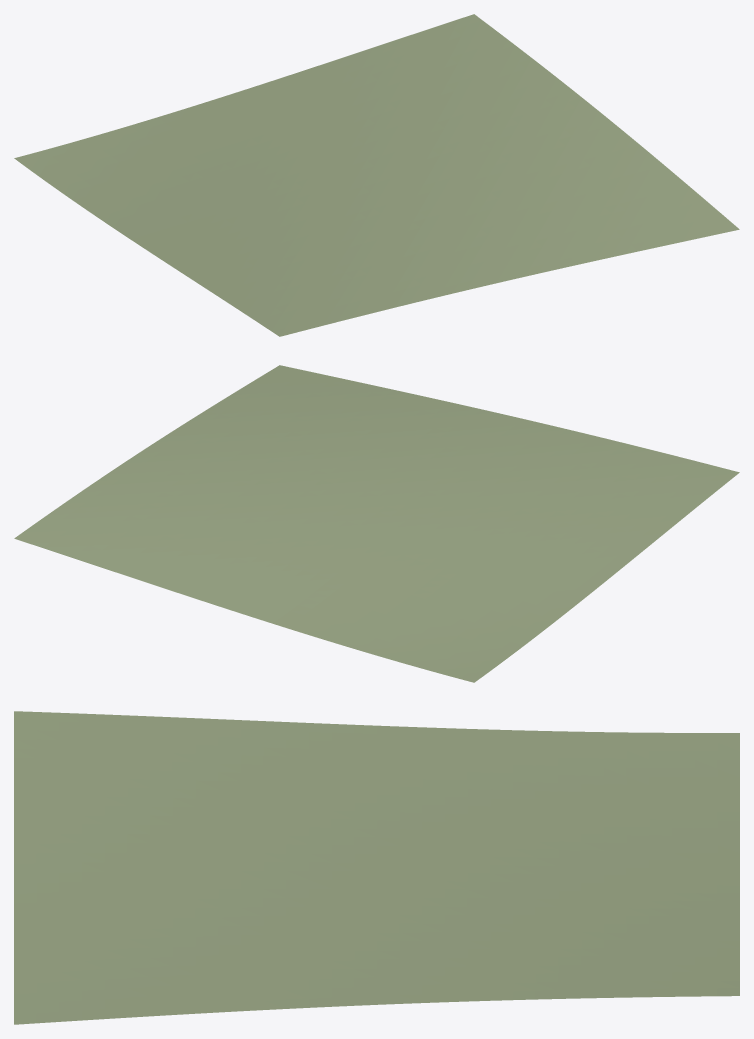
The model's file is alpine-9-14.glb.
3 renders of one model, top to bottom at view 1: azimuth 30°, elevation 25°; view 2: azimuth 150°, elevation 25°; view 3: azimuth 270°, elevation 25°, orthographic. The views are drawn at different scales.
Visible parts, largest first — view 1: alpine-9-14; view 2: alpine-9-14; view 3: alpine-9-14.
Boxes of the visible parts, x1,y1,x2,y2 form: alpine-9-14: (14, 14, 739, 336); alpine-9-14: (14, 365, 739, 682); alpine-9-14: (14, 711, 739, 1024).
Size of the model in its own units: 256 by 17.01 by 256.
